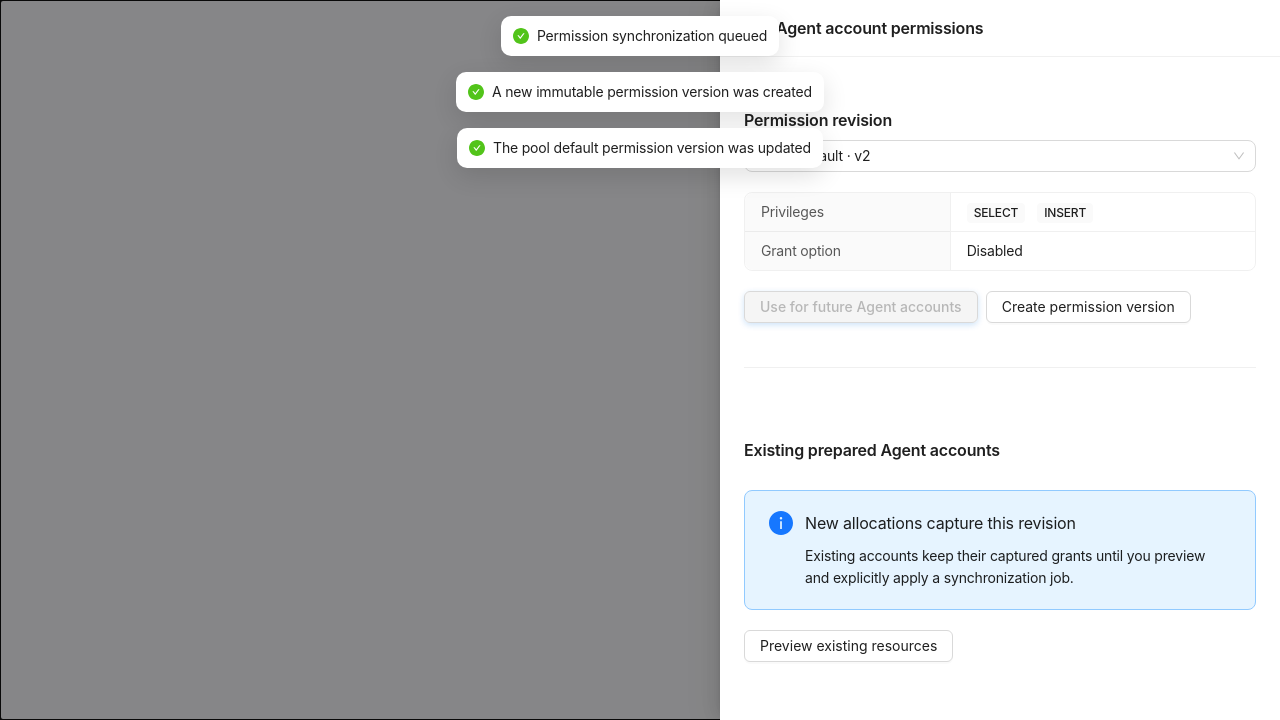
PermissionTemplateDrawer › explains when no existing Agent accounts can be synchronized
Click the button "Preview existing resources".
click(849, 646)  # box [744,630,953,662]
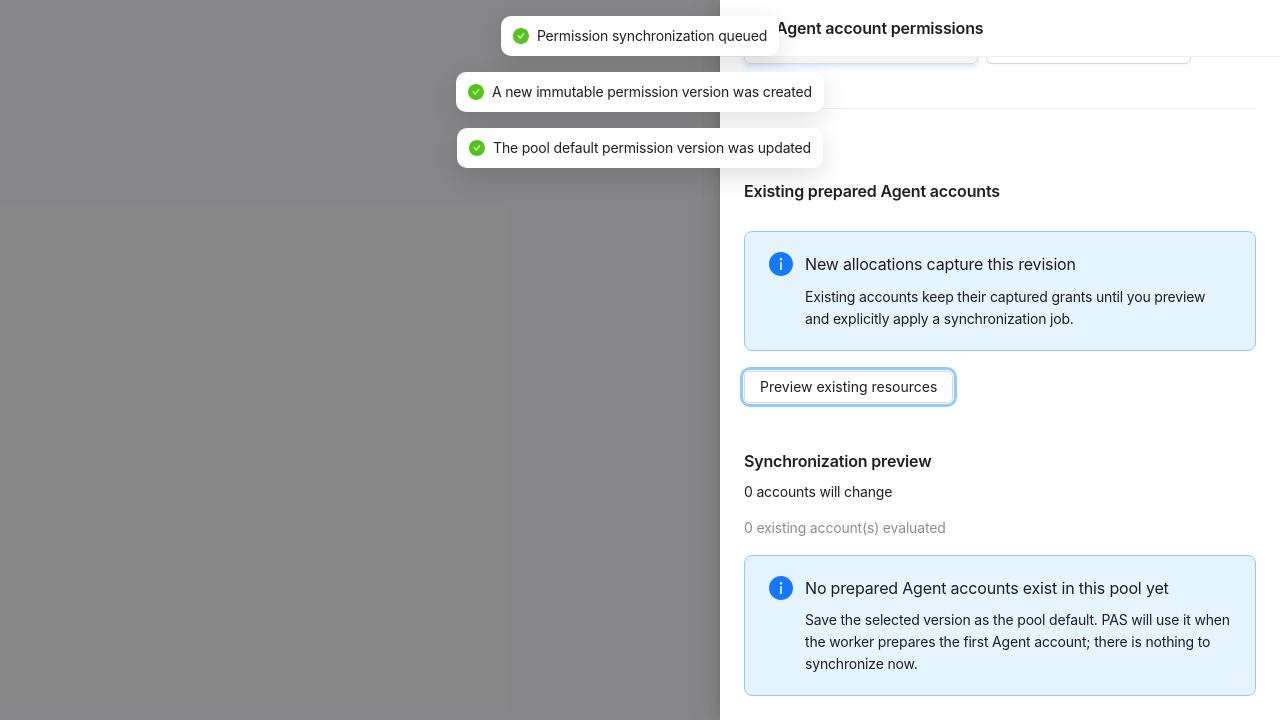
Expected: the text "No prepared Agent accounts exist in this pool yet" is shown, [805,576,1231,601]
